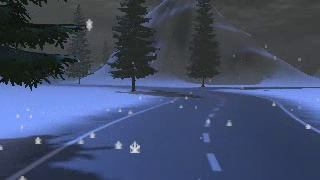Lane: (10, 85, 319, 179)
